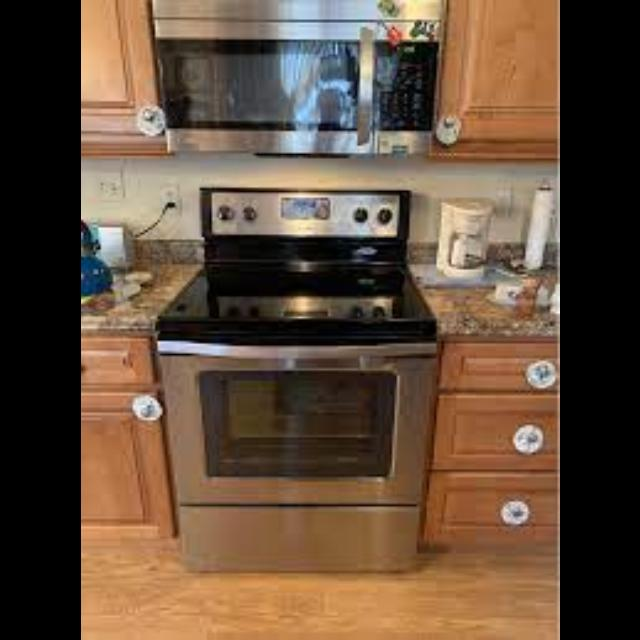Oven: (156, 329, 440, 567), (150, 36, 440, 156)
